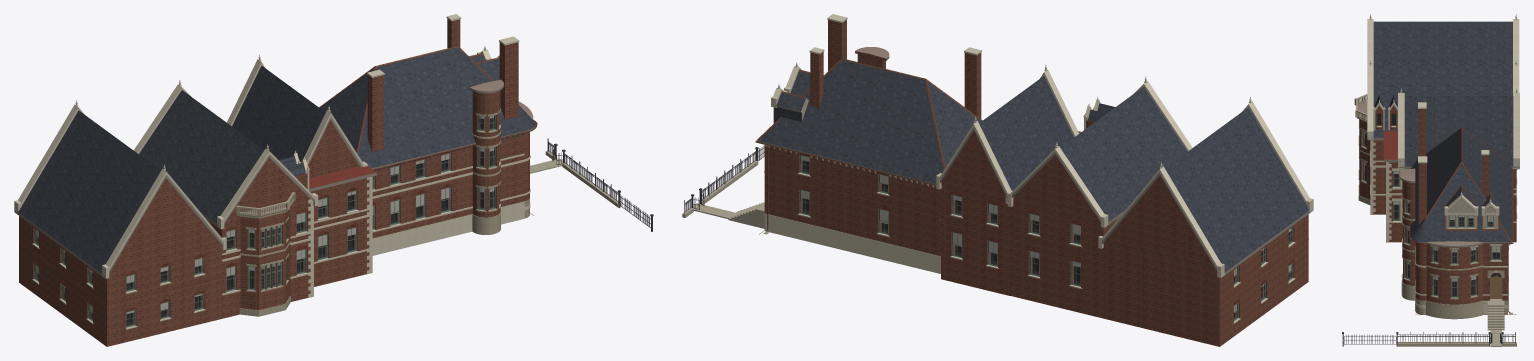
Rendered from marshall_field_jr_house_1919_prairie__as_mapped_1904.glb.
The picture shows the model from 3 angles, left to right: view 1: azimuth 30°, elevation 25°; view 2: azimuth 150°, elevation 25°; view 3: azimuth 270°, elevation 25°; orthographic projection. The views are drawn at different scales.
Parts seen in each view (by area): view 1: marshall_field_jr_house_1919_prairie__as_mapped_1904; view 2: marshall_field_jr_house_1919_prairie__as_mapped_1904; view 3: marshall_field_jr_house_1919_prairie__as_mapped_1904.
Part boxes in pixels (x1=…): marshall_field_jr_house_1919_prairie__as_mapped_1904: x1=14, y1=14, x2=653, y2=346; marshall_field_jr_house_1919_prairie__as_mapped_1904: x1=682, y1=14, x2=1313, y2=346; marshall_field_jr_house_1919_prairie__as_mapped_1904: x1=1342, y1=14, x2=1519, y2=346.
Size of the model in its own units: 54.88 by 17.59 by 19.03.
28 materials, 17 textured.
